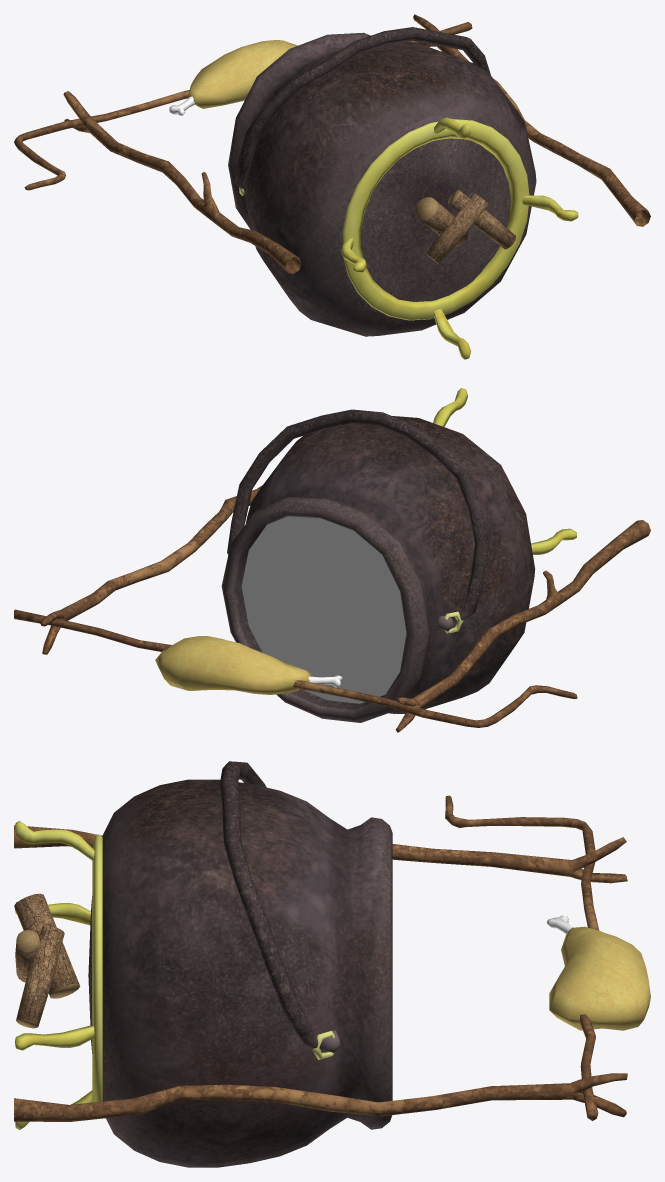
The model's file is Campfire.fbx.
The picture shows the model from 3 angles, top to bottom: view 1: azimuth 30°, elevation 25°; view 2: azimuth 150°, elevation 25°; view 3: azimuth 270°, elevation 25°; orthographic projection. The views are drawn at different scales.
Parts seen in each view (by area): view 1: Kettle, Vertical, Horizontal, Logs; view 2: Kettle, Water Surface, Horizontal, Vertical; view 3: Kettle, Vertical, Horizontal, Logs.
Boxes of the visible parts, x1,y1,x2,y2 form: Kettle: (228,27,578,359); Vertical: (63,14,650,273); Horizontal: (14,22,472,190); Logs: (415,190,515,264); Kettle: (221,388,576,722); Water Surface: (241,516,406,703); Horizontal: (14,609,577,727); Vertical: (40,485,650,732); Kettle: (15,761,392,1167); Vertical: (14,825,627,1121); Horizontal: (445,795,650,1120); Logs: (14,893,80,1028).
Size of the model in its own units: 2.44 by 1.31 by 2.05.
